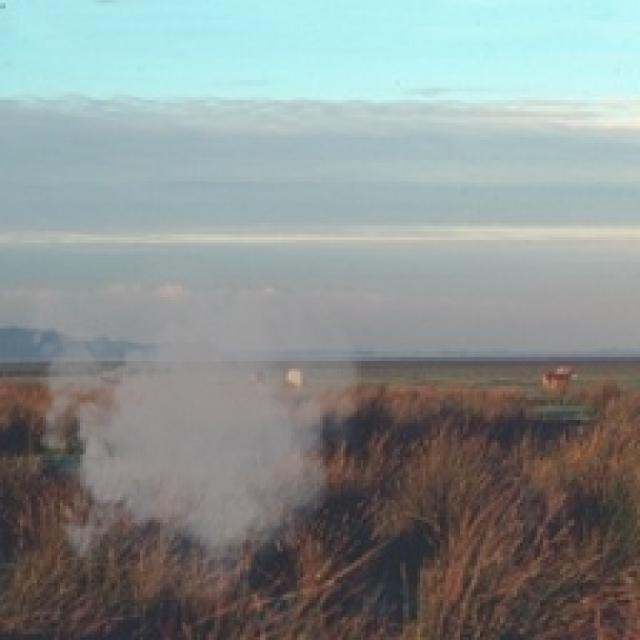Smoke: (20, 237, 366, 614)
